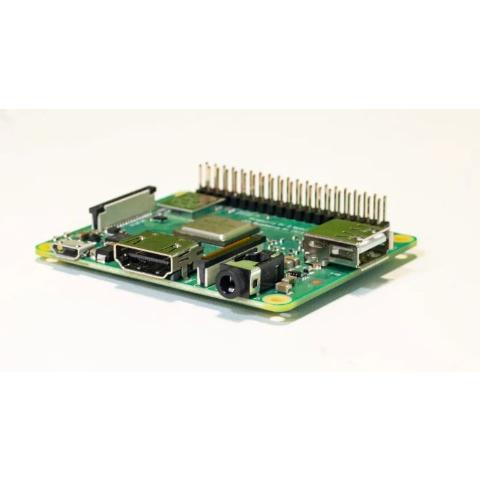Raspberry-Pi-3-Model-A-: (32, 155, 420, 319)
